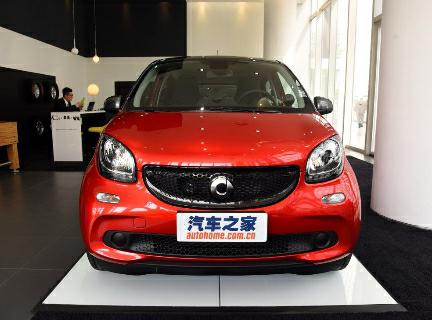smart-forfour: (92, 57, 351, 283)
